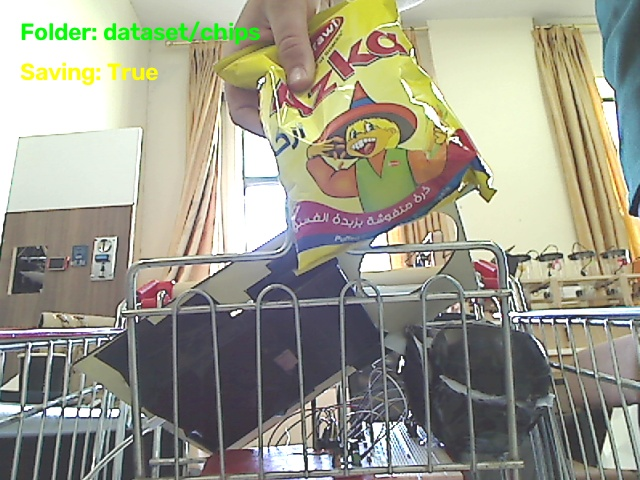chips: (216, 0, 493, 271)
